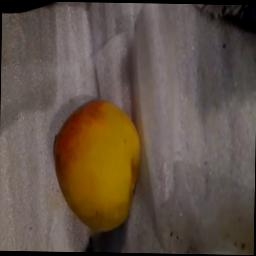Peach Unripe: (37, 88, 156, 238)
